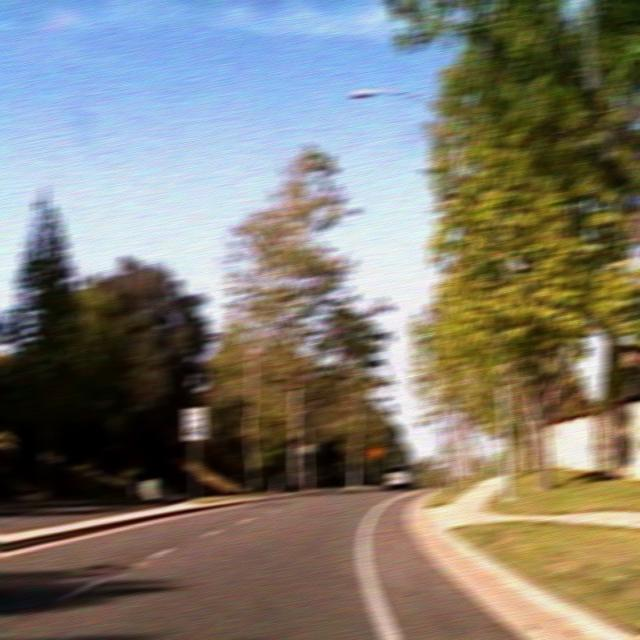speedLimit40: (182, 406, 205, 439)
